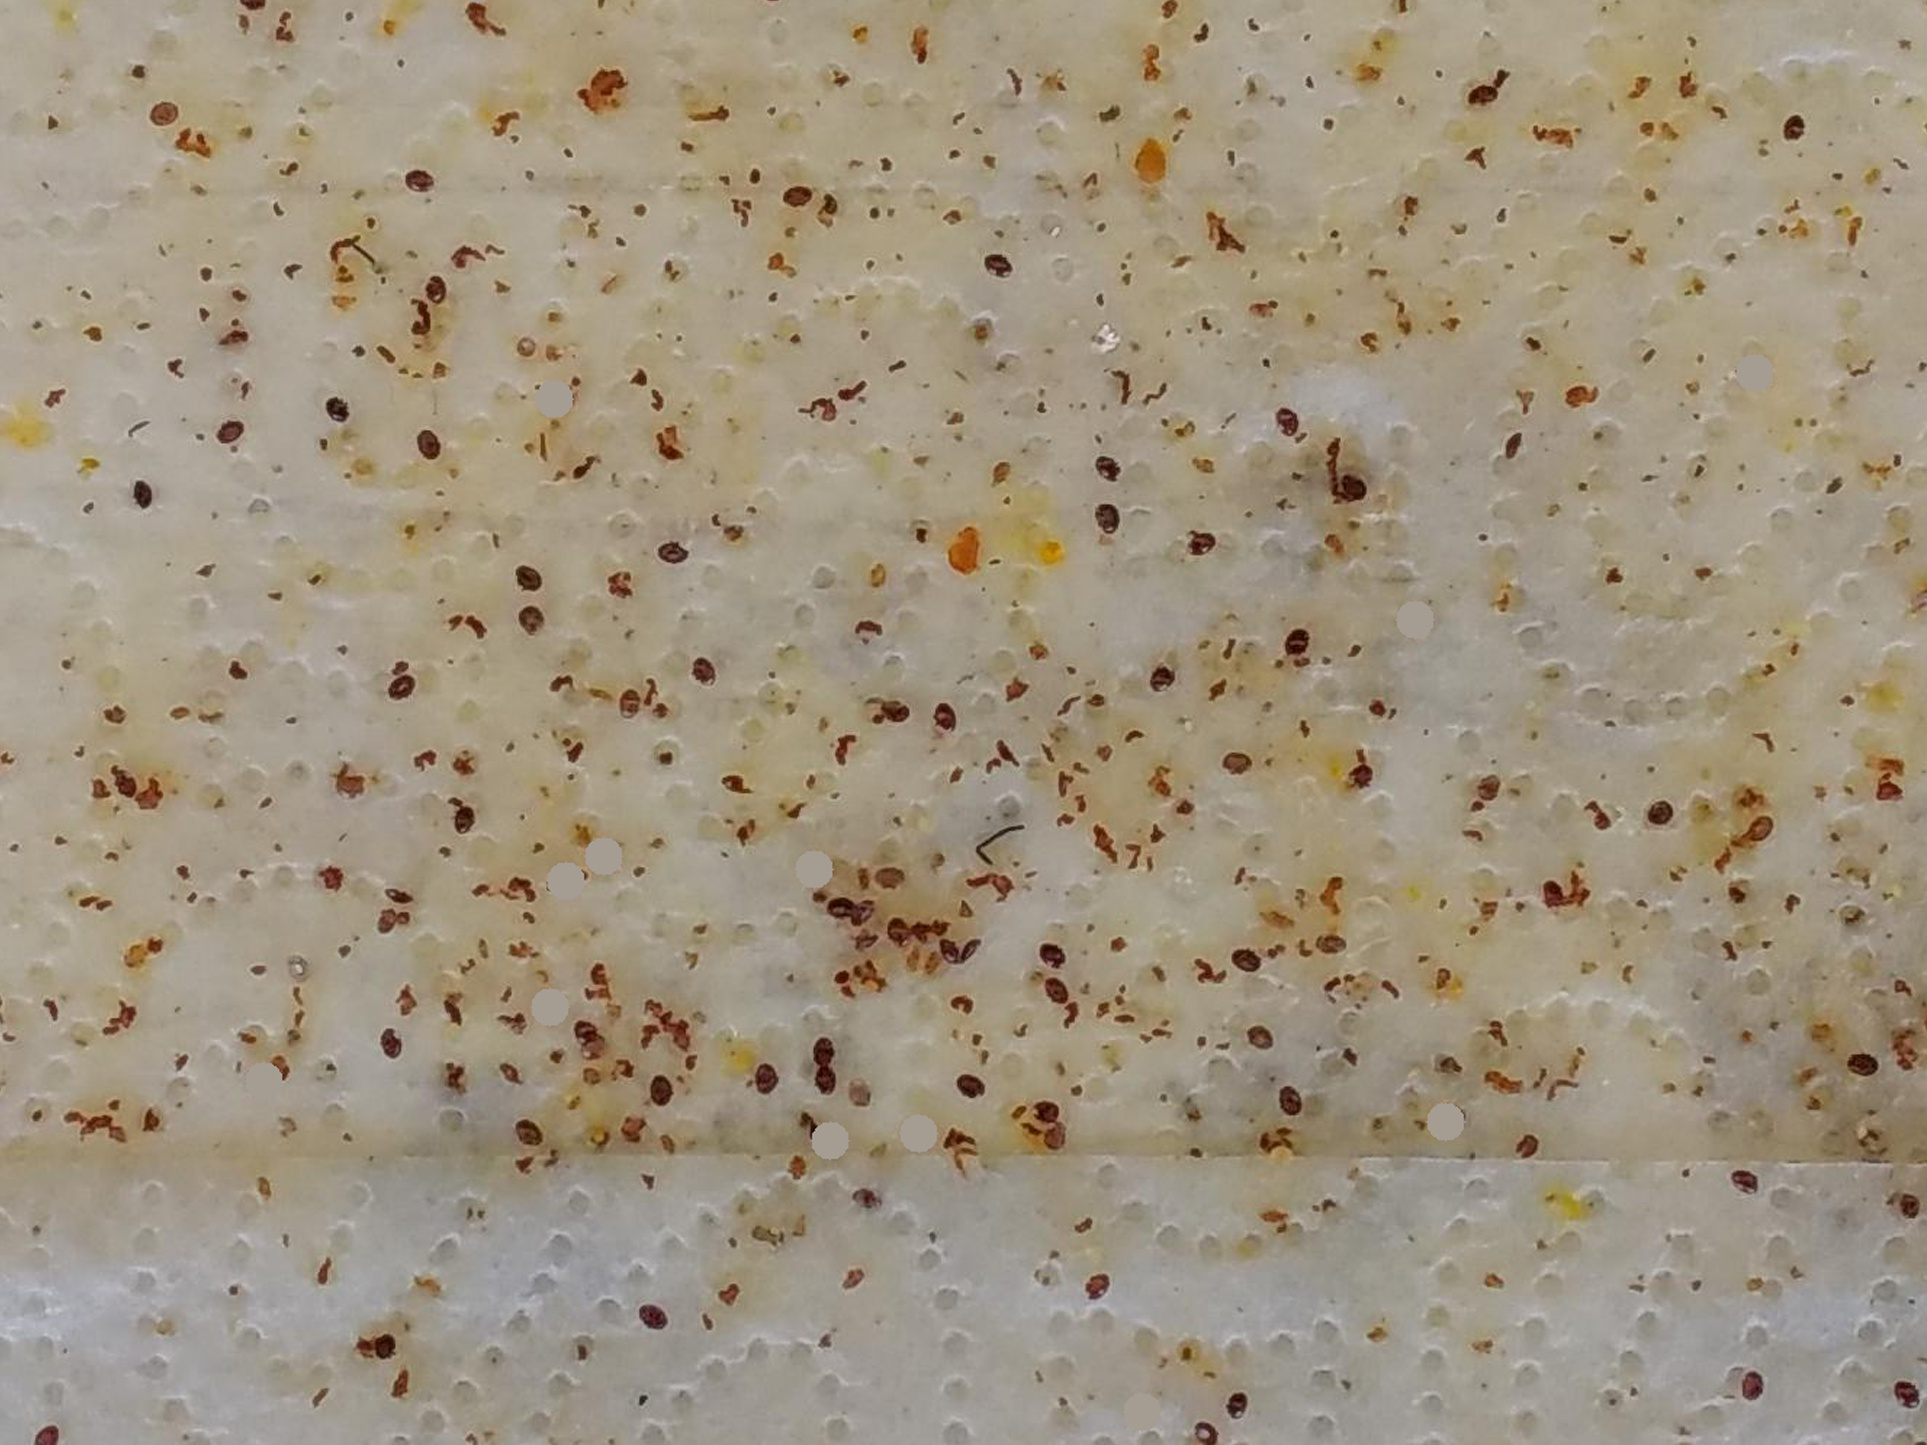Varroa: (844, 892, 888, 937), (844, 921, 888, 965), (815, 883, 857, 927), (927, 930, 970, 974), (564, 1011, 608, 1053), (979, 247, 1021, 288), (1731, 1374, 1766, 1415), (1780, 115, 1815, 153), (373, 903, 408, 940), (513, 609, 546, 647), (332, 776, 366, 814), (750, 1069, 781, 1108), (686, 657, 721, 692), (404, 165, 439, 200), (1281, 624, 1314, 660), (449, 801, 483, 836), (1889, 1381, 1922, 1416), (778, 181, 812, 216), (1092, 452, 1126, 487), (1187, 530, 1220, 563), (1077, 1270, 1111, 1304), (659, 537, 692, 571), (410, 431, 443, 464), (511, 557, 545, 590), (868, 865, 901, 899), (812, 1062, 844, 1097), (387, 669, 419, 703), (929, 704, 960, 738), (1493, 430, 1525, 463), (381, 882, 413, 915), (422, 275, 454, 307), (1847, 1052, 1878, 1084), (1730, 1170, 1762, 1202), (639, 1301, 671, 1333), (953, 1070, 985, 1102), (1036, 977, 1068, 1009), (1470, 774, 1502, 806), (809, 1040, 841, 1072), (1272, 407, 1302, 439), (1234, 946, 1264, 977), (1347, 760, 1378, 792), (1218, 747, 1249, 779), (1275, 1087, 1305, 1119), (646, 1078, 677, 1110), (1894, 1192, 1925, 1222), (845, 1084, 875, 1116), (212, 419, 243, 449), (850, 1181, 880, 1211), (1033, 1102, 1064, 1132), (375, 1028, 405, 1058), (880, 692, 910, 722), (1536, 880, 1566, 911), (1092, 502, 1121, 534), (1149, 669, 1177, 700), (510, 1117, 539, 1147), (322, 398, 351, 428), (1039, 937, 1068, 967), (1319, 930, 1347, 961), (1642, 792, 1671, 823), (369, 1330, 398, 1358), (1221, 1389, 1250, 1418), (1466, 77, 1495, 106), (615, 688, 643, 716), (149, 102, 178, 131), (1246, 1025, 1275, 1053), (1740, 817, 1769, 845), (130, 483, 158, 512), (891, 914, 918, 943), (1335, 480, 1364, 505)
